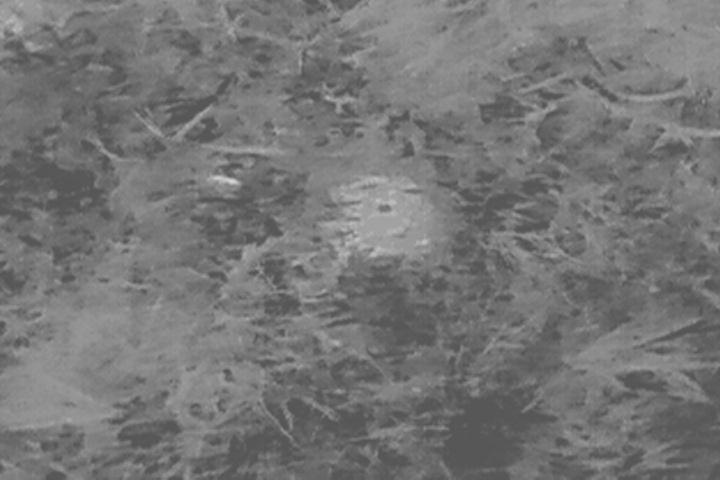landmine: (337, 177, 434, 265)
